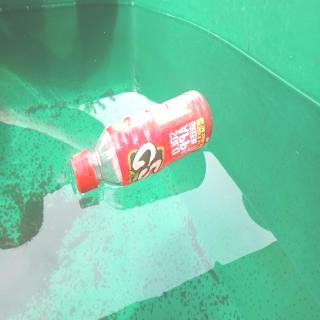bottle: (70, 86, 214, 195)
